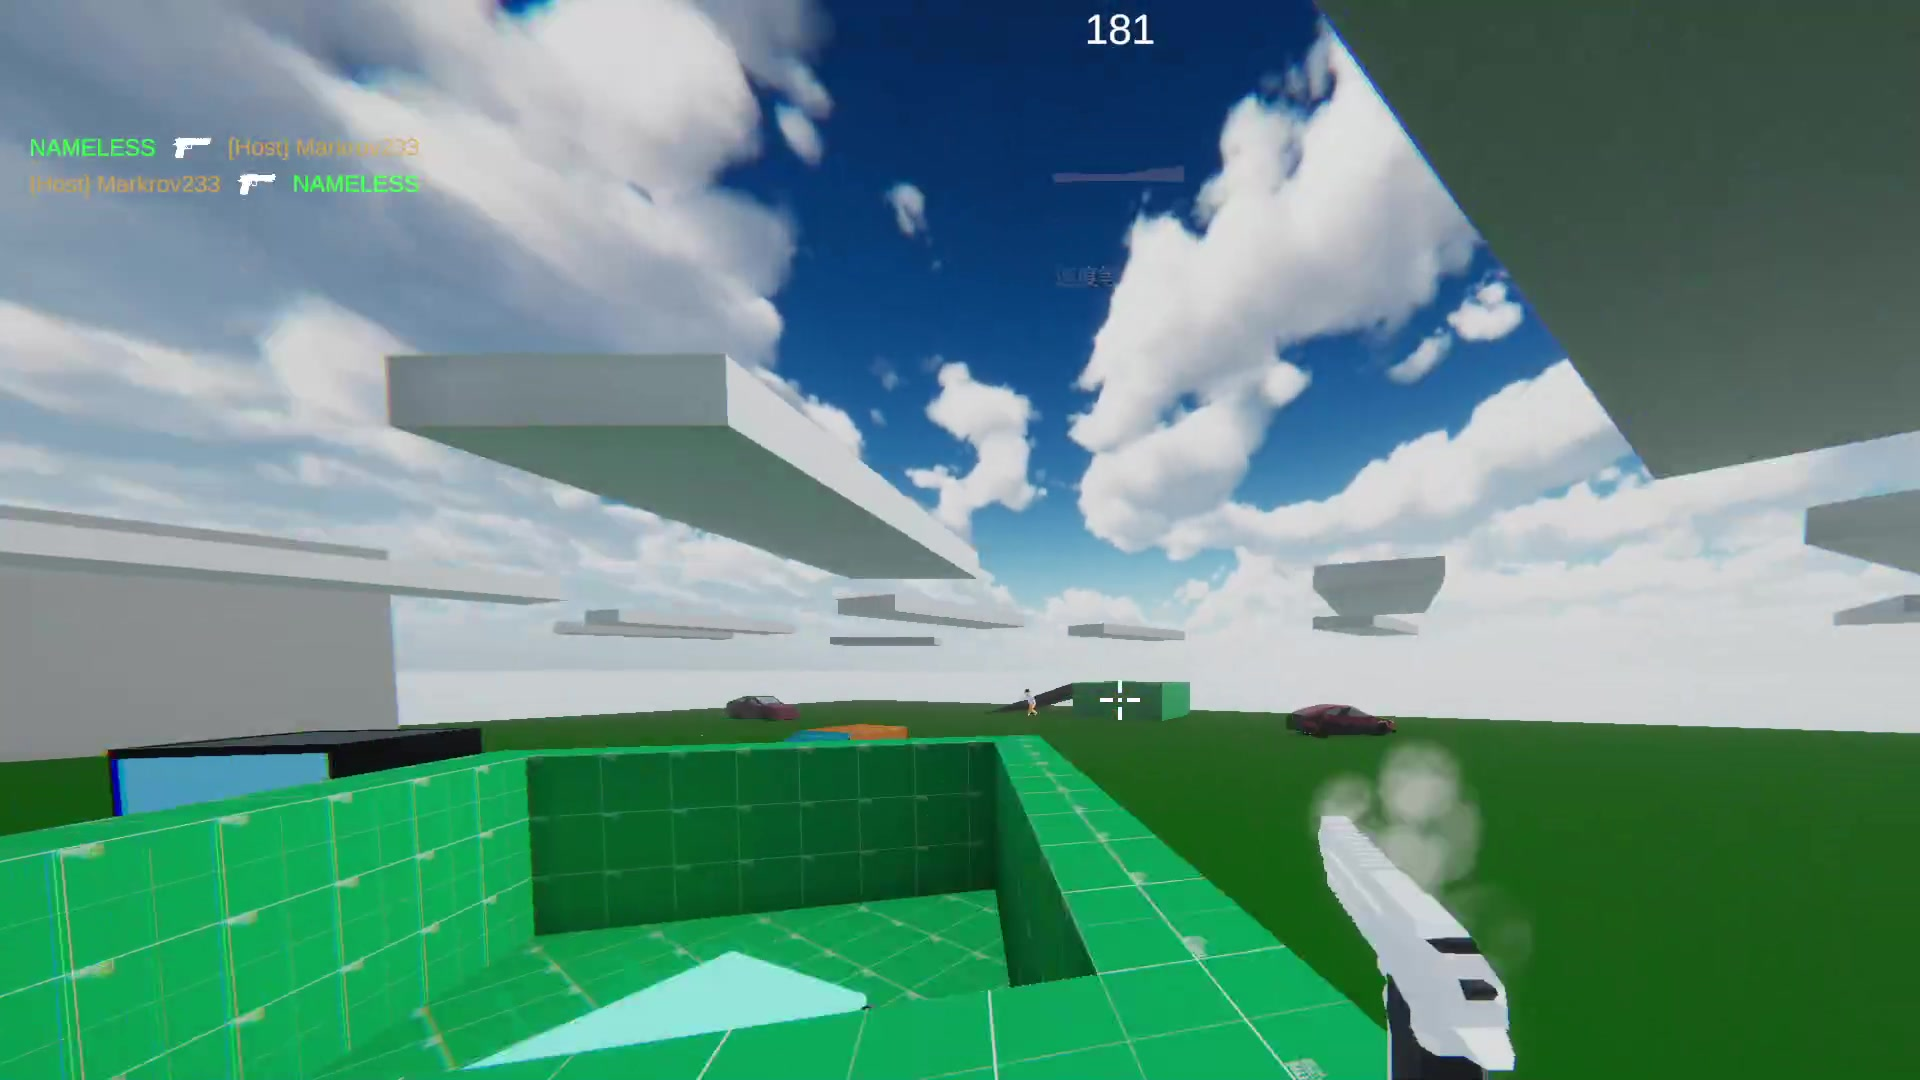human: (1022, 688, 1041, 719)
